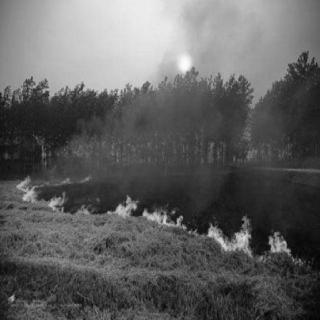other: (178, 52, 192, 72)
